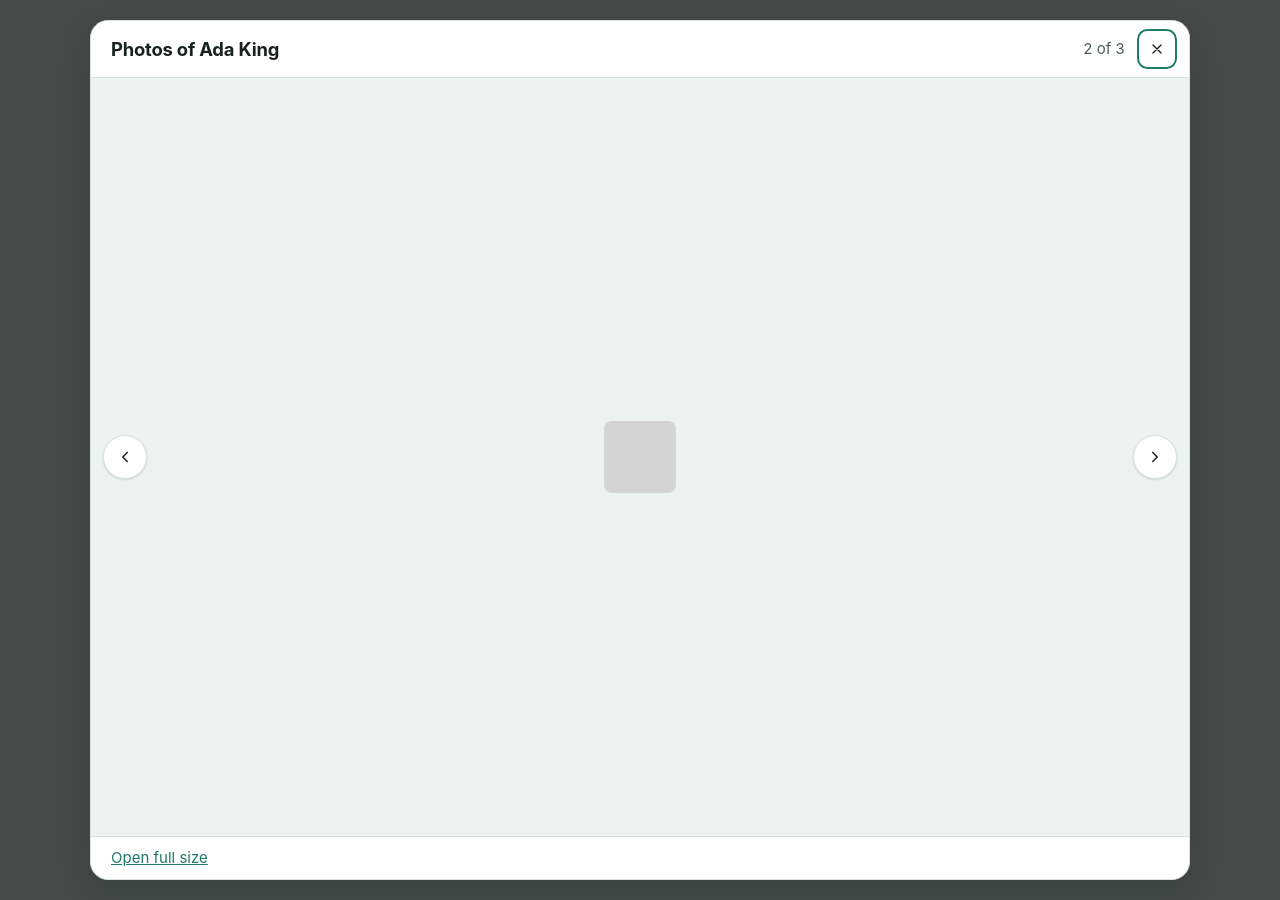
PhotoViewer › opens on the photo clicked and moves with Previous and Next, stopping at the ends
Expected: the text "2 of 3" is shown, x1=1083 y1=37 x2=1125 y2=61
Click the button named "Next photo".
click(1155, 457)  # box x1=1133 y1=435 x2=1177 y2=479
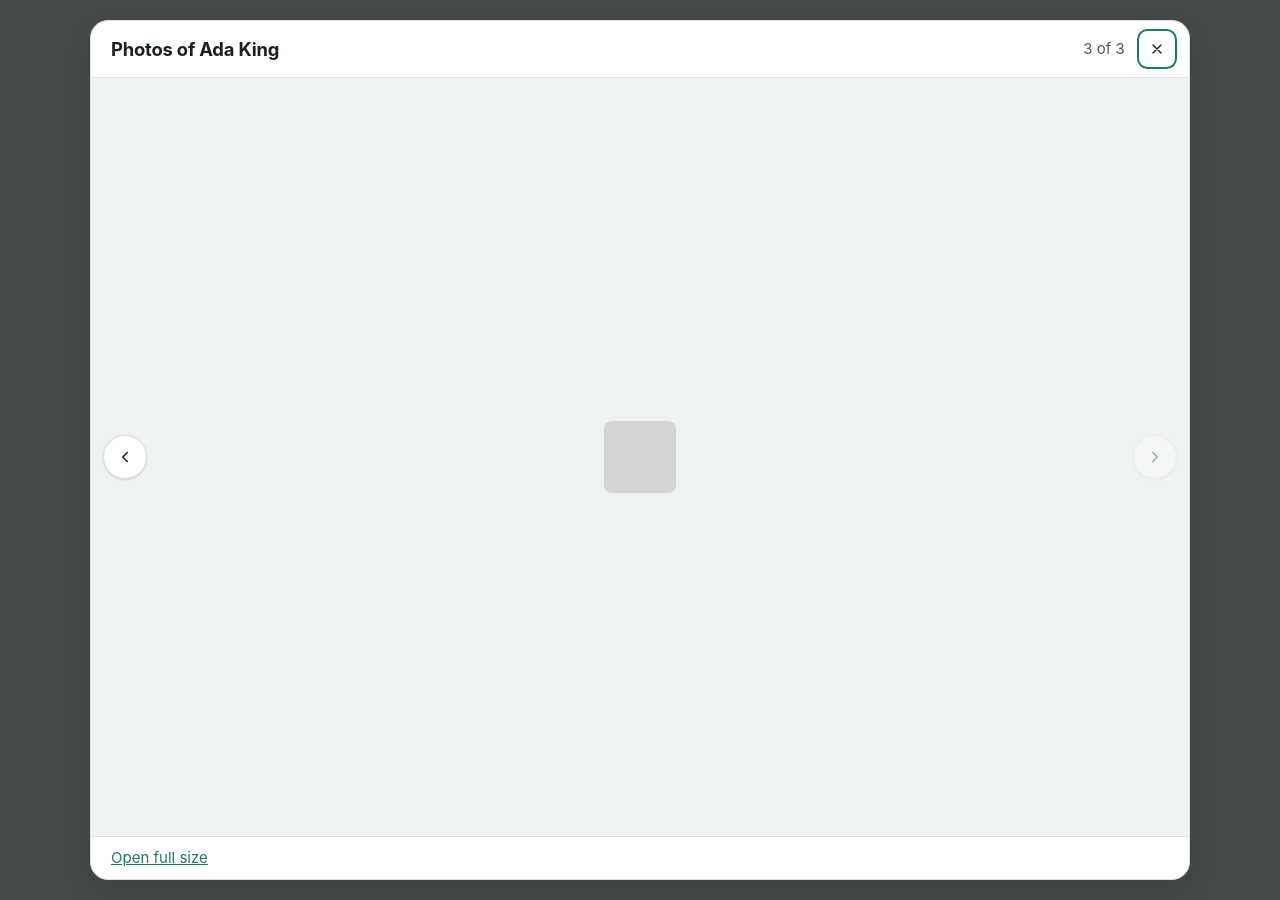
Now the text "3 of 3" is shown, box x1=1083 y1=37 x2=1125 y2=61
Click the button named "Previous photo".
click(125, 457)  # box x1=103 y1=435 x2=147 y2=479
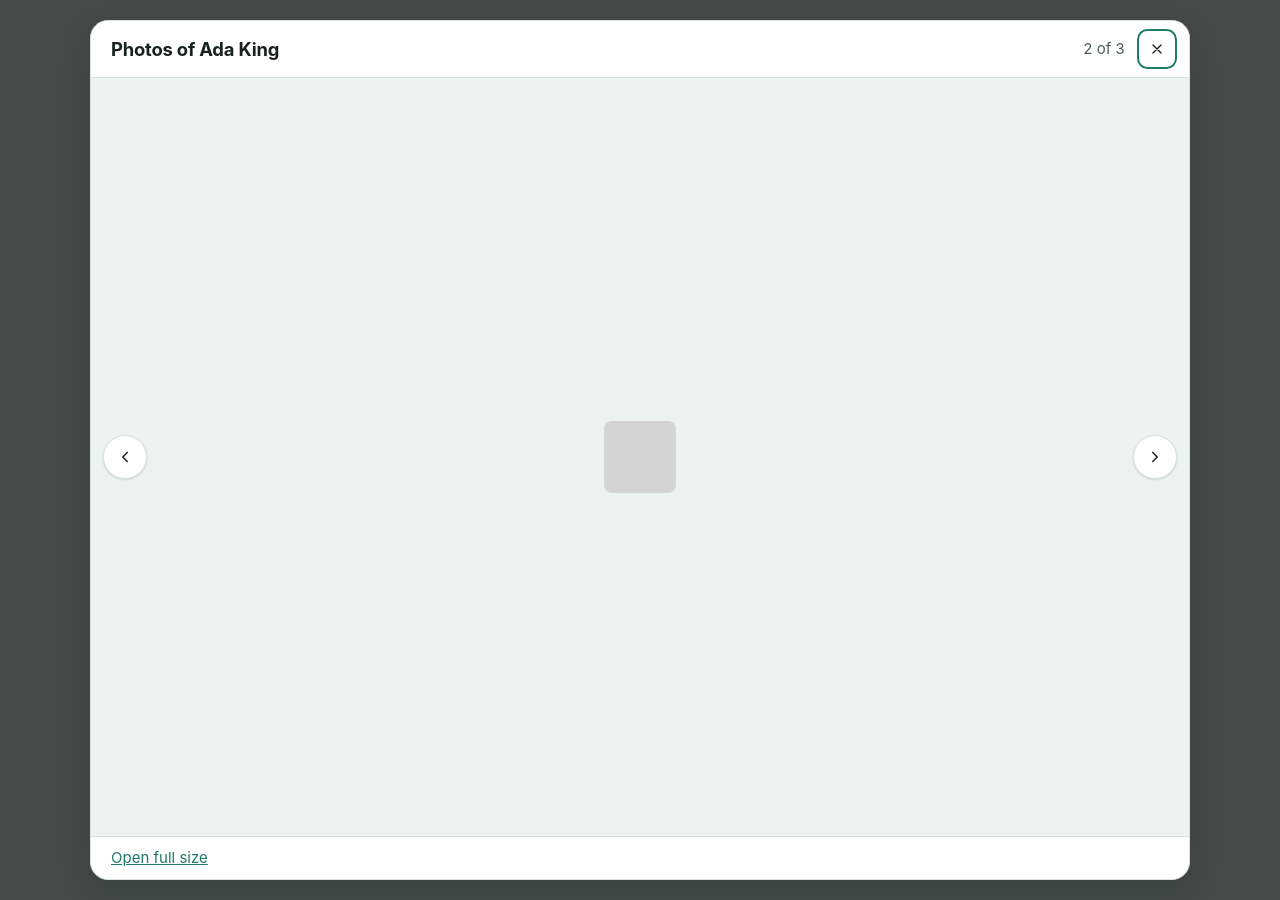
Click the button named "Previous photo".
click(125, 457)  # box x1=103 y1=435 x2=147 y2=479
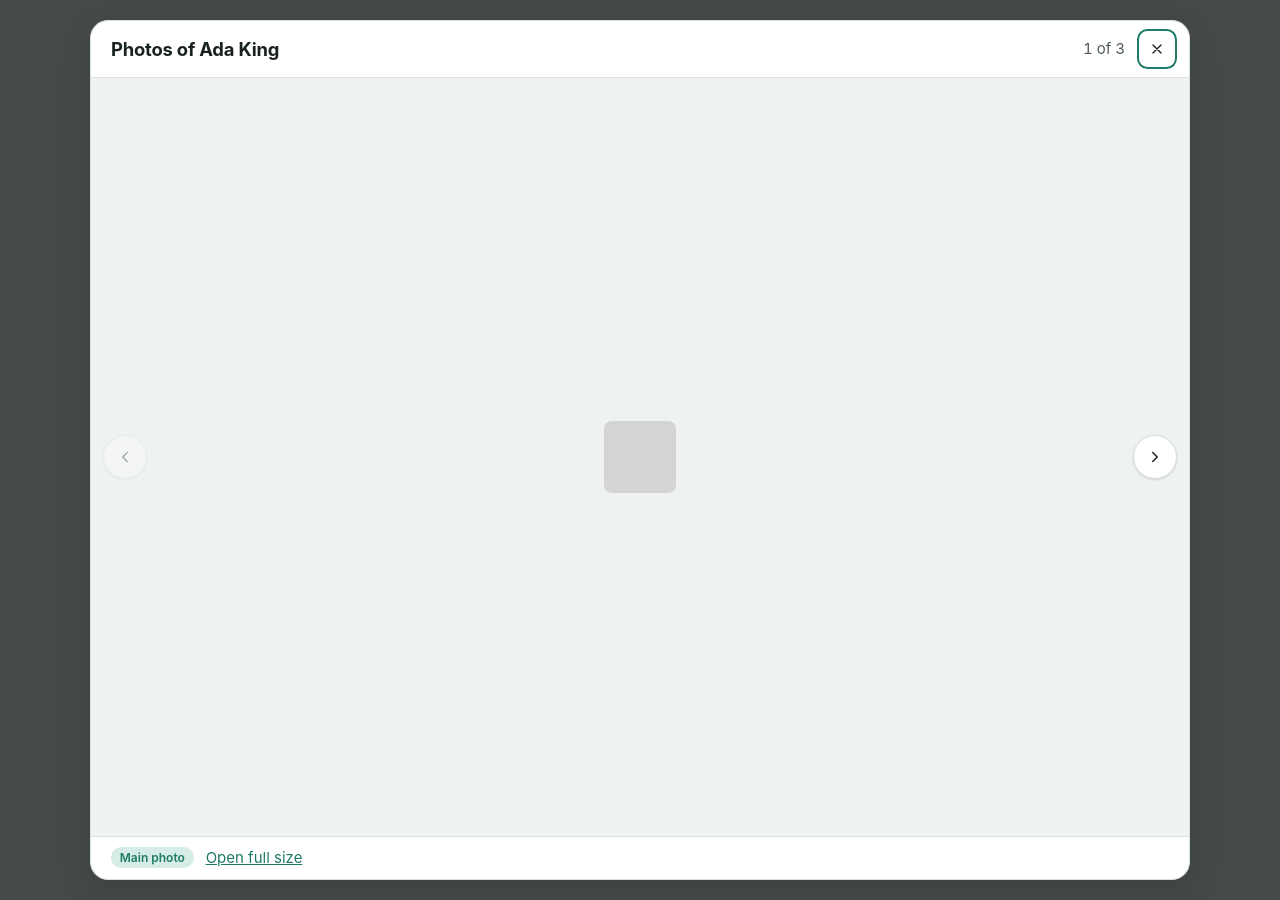
Now the text "1 of 3" is shown, box x1=1083 y1=37 x2=1125 y2=61
